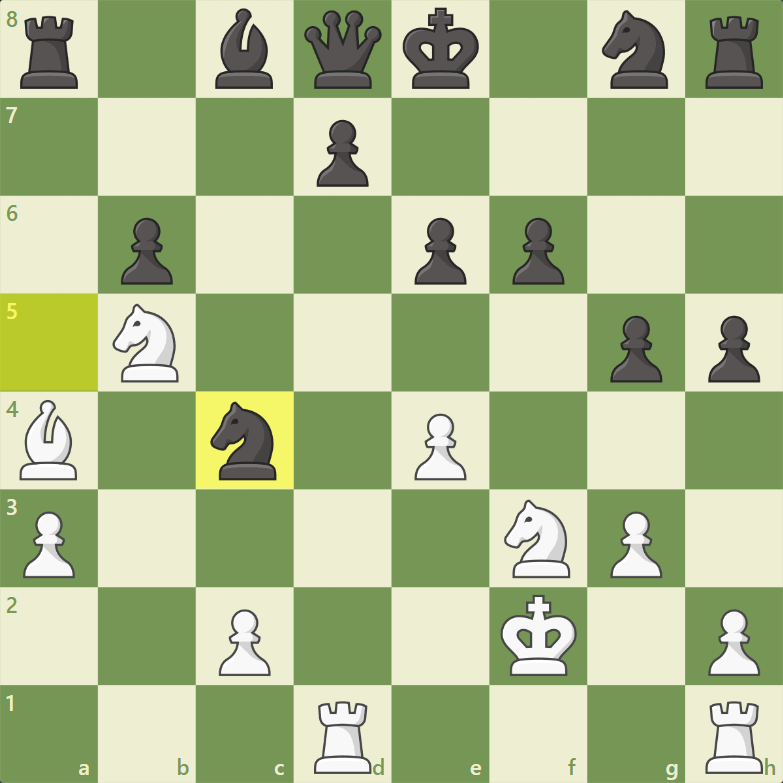B: (14, 397, 81, 484)
K: (498, 591, 579, 679)
N: (110, 301, 182, 386), (501, 498, 574, 581)
P: (408, 410, 469, 484), (214, 606, 274, 681), (19, 510, 79, 582), (608, 509, 666, 582), (705, 607, 763, 679)
R: (705, 698, 767, 778), (314, 699, 374, 778)
b: (210, 6, 277, 93)
k: (400, 5, 481, 94)
n: (599, 6, 673, 93), (210, 400, 280, 484)
p: (409, 212, 470, 290), (117, 212, 176, 290), (606, 312, 666, 388), (312, 117, 372, 191), (509, 214, 568, 289), (705, 313, 763, 387)
q: (302, 8, 386, 92)
r: (14, 13, 82, 93), (701, 14, 769, 93)
